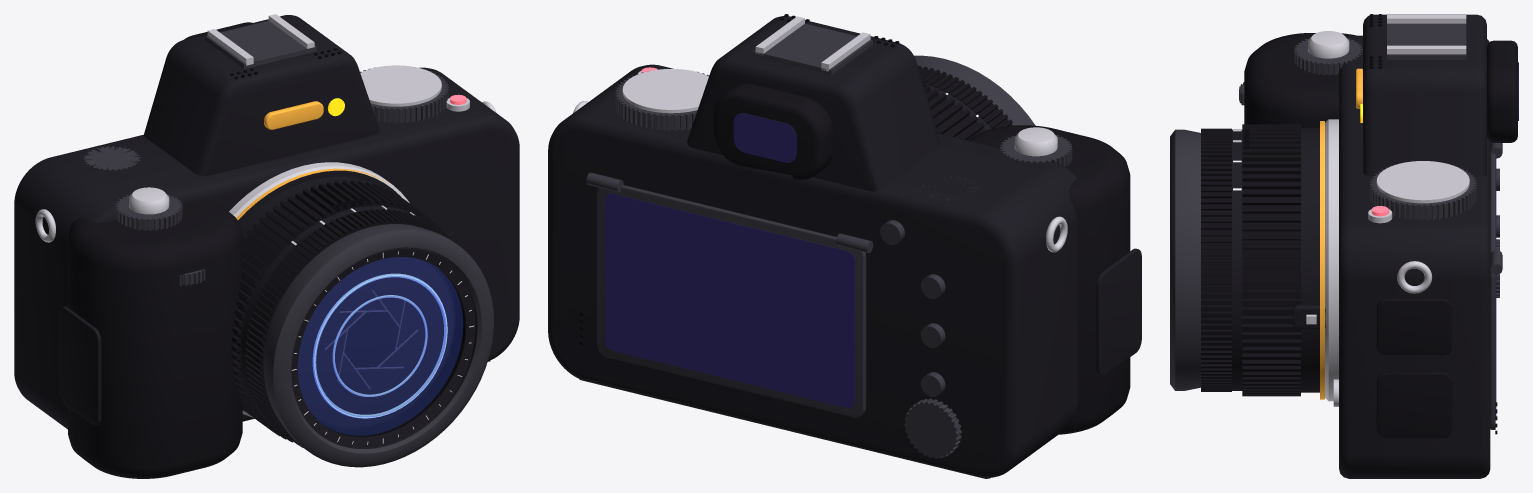
Rendered from camera-modern.glb.
3 renders of one model, left to right at view 1: azimuth 30°, elevation 25°; view 2: azimuth 150°, elevation 25°; view 3: azimuth 270°, elevation 25°, orthographic. The views are drawn at different scales.
Parts seen in each view (by area): view 1: camera_modern_body, camera_modern_grip, camera_modern_glass, camera_modern_gunmetal, camera_modern_iris, camera_modern_silver, camera_modern_throat, camera_modern_lens_glint, camera_modern_gold, camera_modern_iris_edge; view 2: camera_modern_body, camera_modern_screen, camera_modern_grip, camera_modern_gunmetal, camera_modern_silver; view 3: camera_modern_body, camera_modern_grip, camera_modern_gunmetal, camera_modern_silver, camera_modern_gold, camera_modern_screen, camera_modern_throat.
Boxes of the visible parts, <box> form: camera_modern_body: <box>14,15,519,449</box>; camera_modern_grip: <box>68,22,465,478</box>; camera_modern_glass: <box>298,257,462,435</box>; camera_modern_gunmetal: <box>83,20,493,467</box>; camera_modern_iris: <box>297,257,452,427</box>; camera_modern_silver: <box>35,14,496,417</box>; camera_modern_throat: <box>230,48,465,437</box>; camera_modern_lens_glint: <box>312,273,447,418</box>; camera_modern_gold: <box>236,101,387,219</box>; camera_modern_iris_edge: <box>324,290,418,389</box>; camera_modern_body: <box>548,16,1141,478</box>; camera_modern_screen: <box>605,113,854,408</box>; camera_modern_grip: <box>713,65,1130,434</box>; camera_modern_gunmetal: <box>586,23,1072,458</box>; camera_modern_silver: <box>573,16,1067,252</box>; camera_modern_body: <box>1232,14,1490,478</box>; camera_modern_grip: <box>1201,33,1517,437</box>; camera_modern_gunmetal: <box>1170,23,1502,429</box>; camera_modern_silver: <box>1306,15,1469,406</box>; camera_modern_gold: <box>1320,68,1362,399</box>; camera_modern_screen: <box>1495,62,1518,415</box>; camera_modern_throat: <box>1244,14,1497,434</box>.
Bounding box in the file's own units: 3.16 × 2.28 × 2.02.
